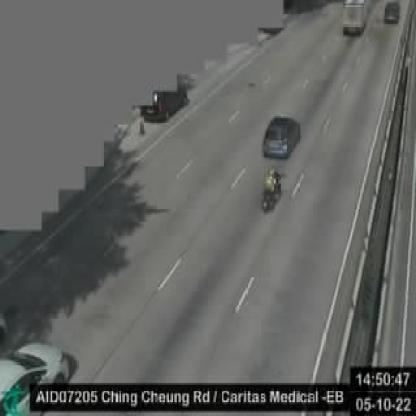Car: (264, 116, 299, 158)
